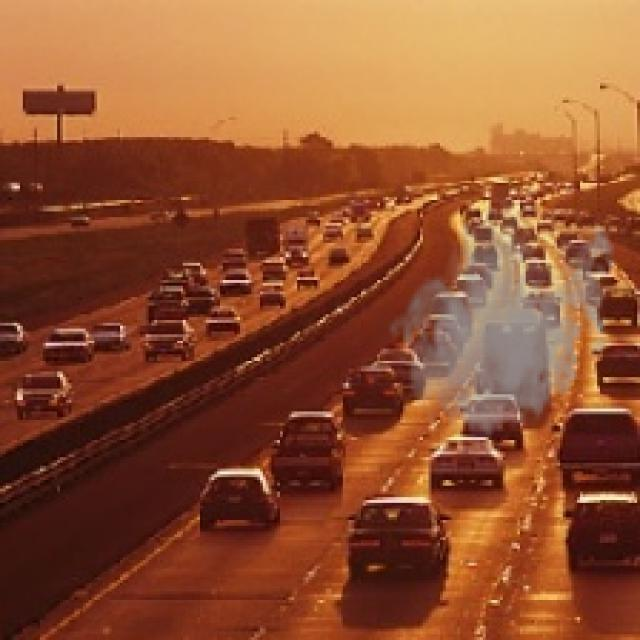smoke: (386, 188, 620, 446)
